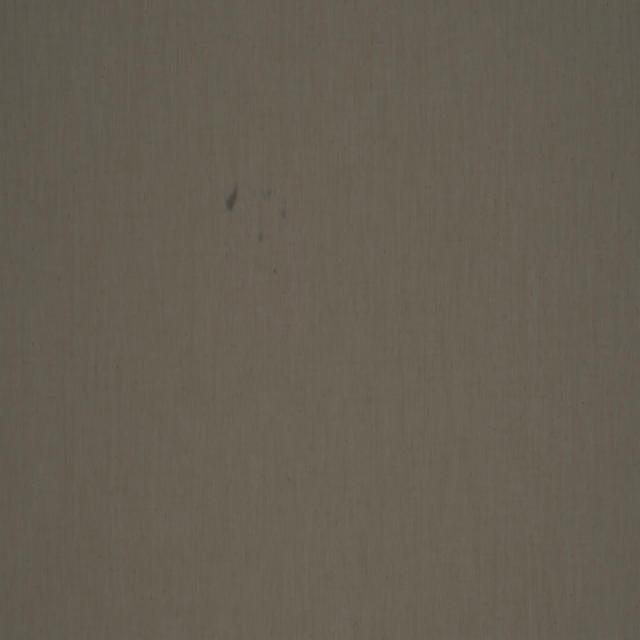dirty: (227, 182, 240, 213), (281, 199, 288, 223), (256, 230, 264, 244)
